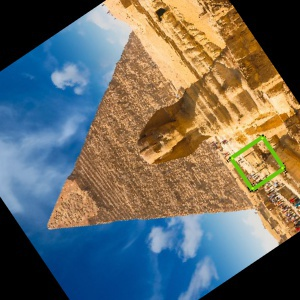square: (228, 134, 288, 194)
triangle: (47, 29, 258, 230)
